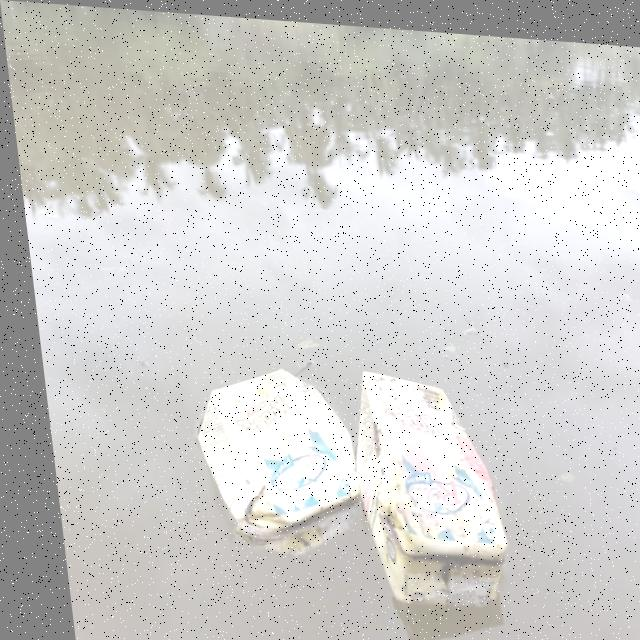paper: (344, 359, 515, 604), (182, 362, 347, 543)
